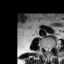CCS_normal: (47, 45, 49, 56)
LFS_stenosis: (51, 44, 54, 51)
LLS_normal: (49, 45, 51, 53)
RFS_stenosis: (42, 44, 45, 51)
RLS_normal: (45, 45, 47, 53)
